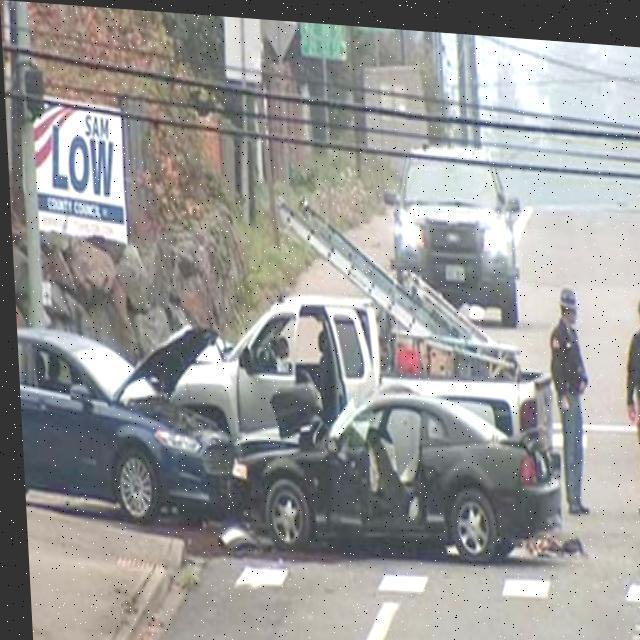multiple_accident: (61, 190, 543, 566)
normal: (410, 117, 557, 356)
